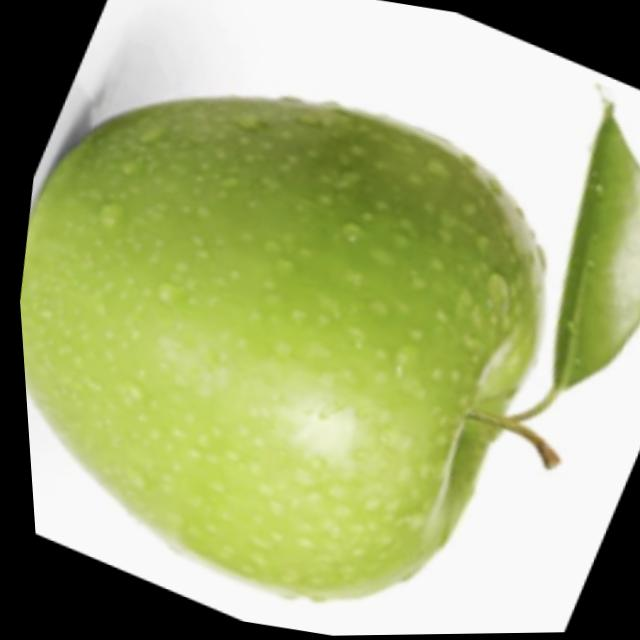organik: (3, 42, 616, 640)
